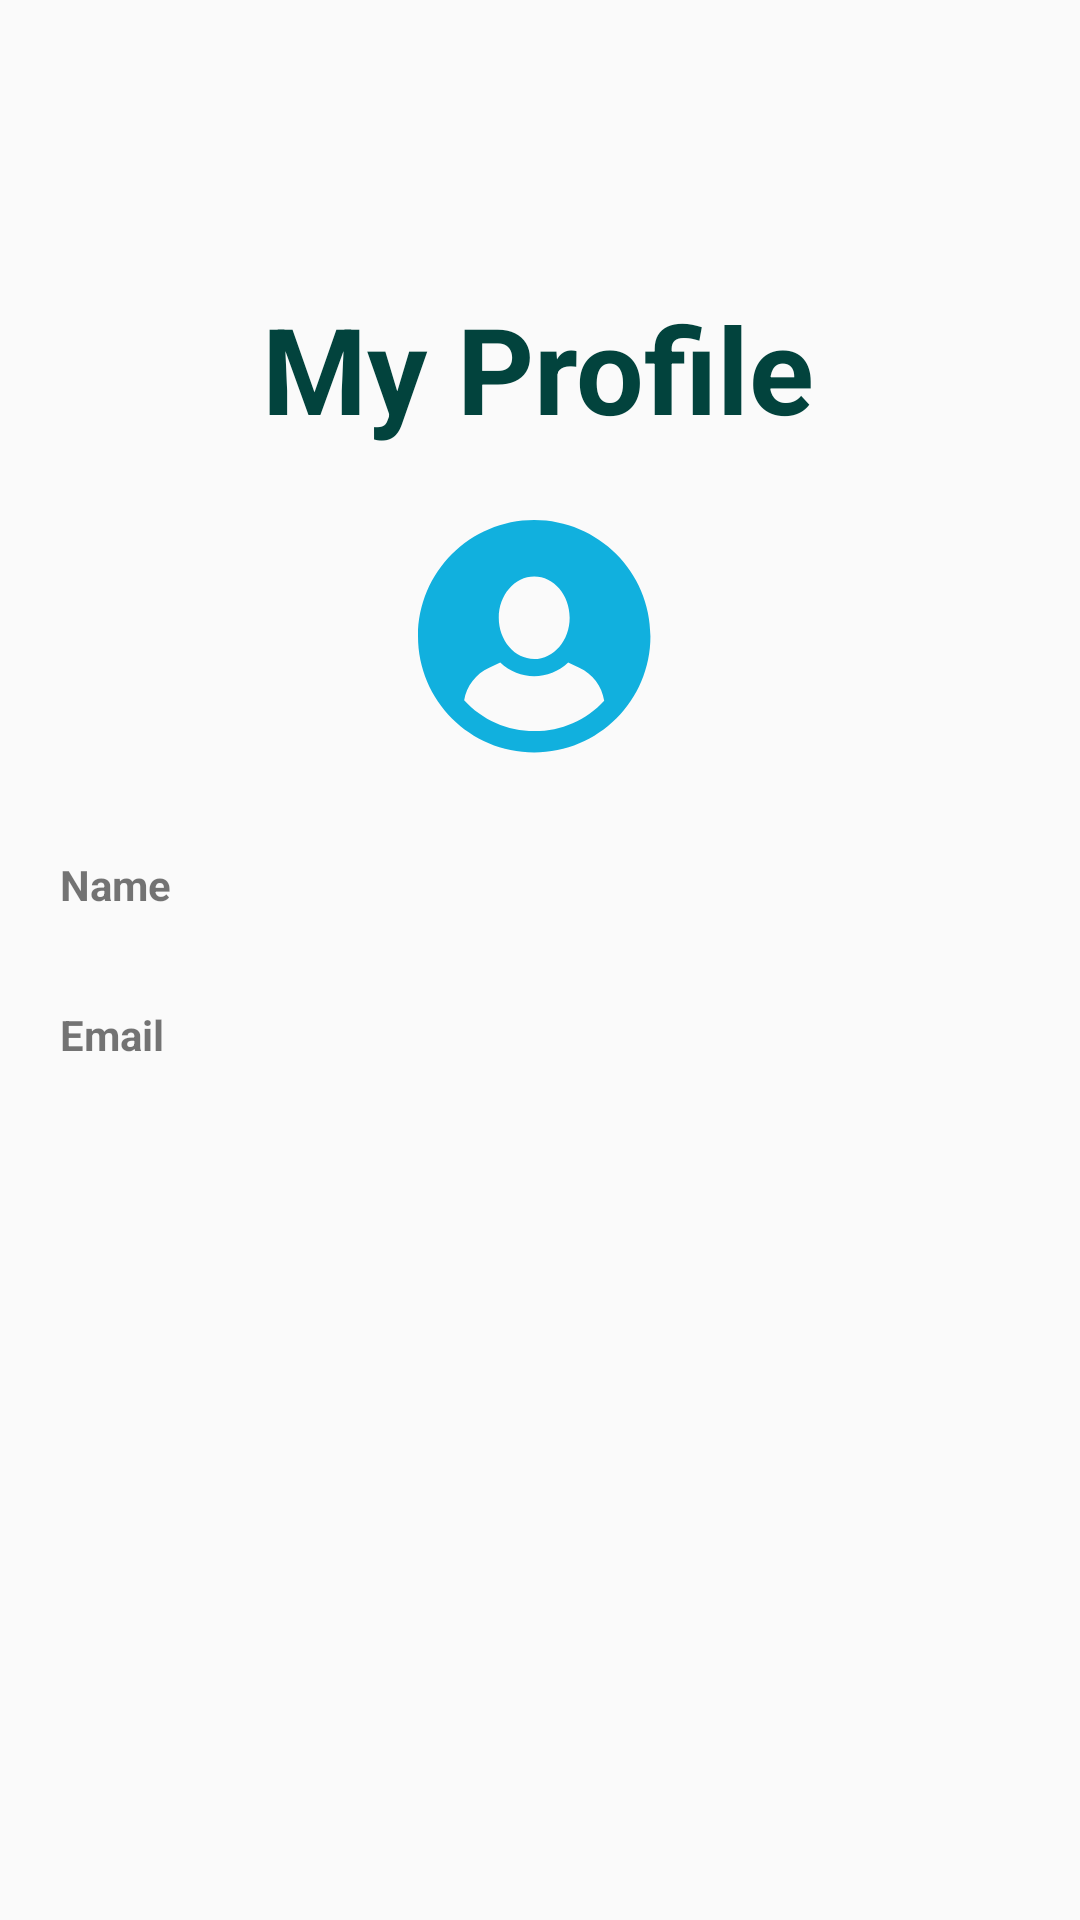

Point at icon controls on the screen. Image size 1080px x 1920px, points as (x,y).
account: (534,636)
